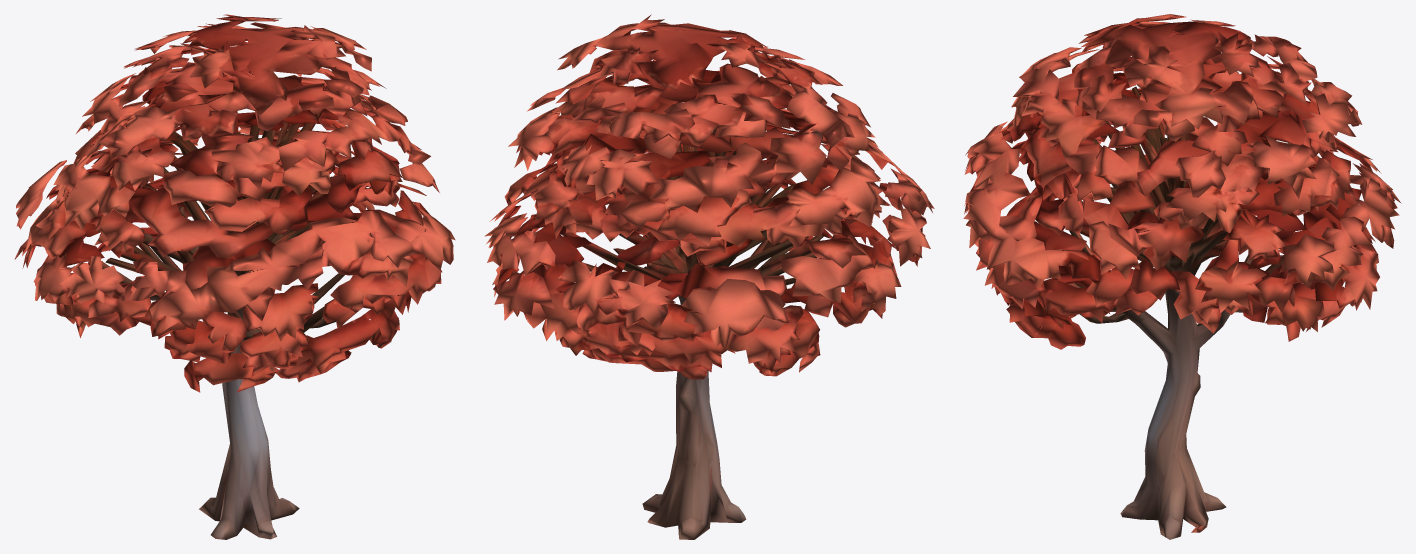
Rendered from tree_maple_momiji.glb.
The picture shows the model from 3 angles, left to right: view 1: azimuth 30°, elevation 25°; view 2: azimuth 150°, elevation 25°; view 3: azimuth 270°, elevation 25°; orthographic projection.
Visible parts, largest first — view 1: node_0; view 2: node_0; view 3: node_0.
Part boxes in pixels (x1,y1,x2,y2): node_0: (14,14,455,539); node_0: (484,14,934,539); node_0: (963,14,1401,539).
Bounding box in the file's own units: 4.04 × 5 × 4.04.
1 material, 1 textured.
